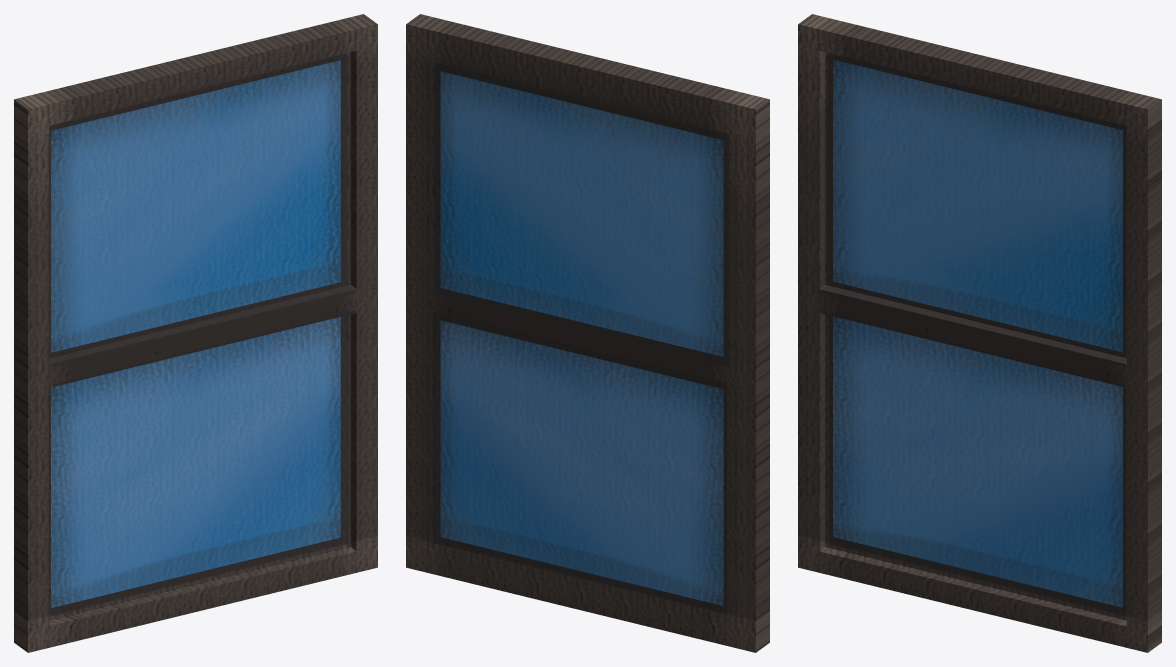
The model's file is window.fbx.
3 views of the same model, side by side, from view 1: azimuth 30°, elevation 25°; view 2: azimuth 150°, elevation 25°; view 3: azimuth 330°, elevation 25° (orthographic).
Parts seen in each view (by area): view 1: pCube16; view 2: pCube16; view 3: pCube16.
Part boxes in pixels (left/top/right/bottom): pCube16: left=14, top=14, right=377, bottom=652; pCube16: left=406, top=14, right=769, bottom=652; pCube16: left=798, top=14, right=1161, bottom=652.
Size of the model in its own units: 2.12 by 3.14 by 0.1467.
